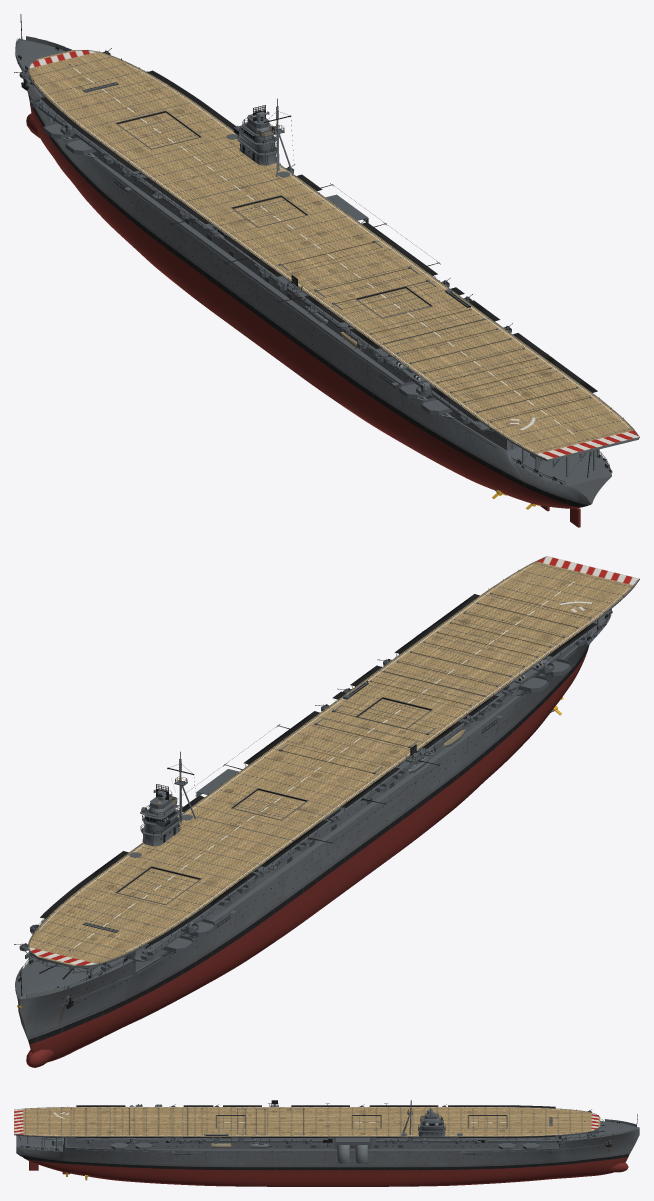
The model's file is shokaku.glb.
The picture shows the model from 3 angles, top to bottom: view 1: azimuth 30°, elevation 25°; view 2: azimuth 150°, elevation 25°; view 3: azimuth 270°, elevation 25°; orthographic projection. The views are drawn at different scales.
Parts seen in each view (by area): view 1: hull, det; view 2: hull, det; view 3: hull, det.
Boxes of the visible parts, x1,y1,x2,y2 form: hull: [15, 14, 639, 527]; det: [14, 36, 612, 484]; hull: [15, 556, 639, 1067]; det: [14, 592, 612, 1007]; hull: [14, 1100, 639, 1186]; det: [20, 1100, 636, 1163].
Size of what is drawn, in the model's own units: 42.21 by 41.9 by 259.
Materials: 3 (2 with a texture image).
